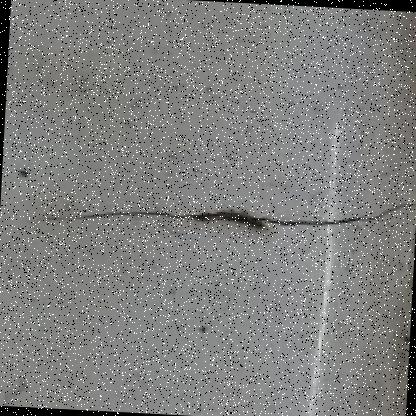Crack: (7, 171, 414, 264)
